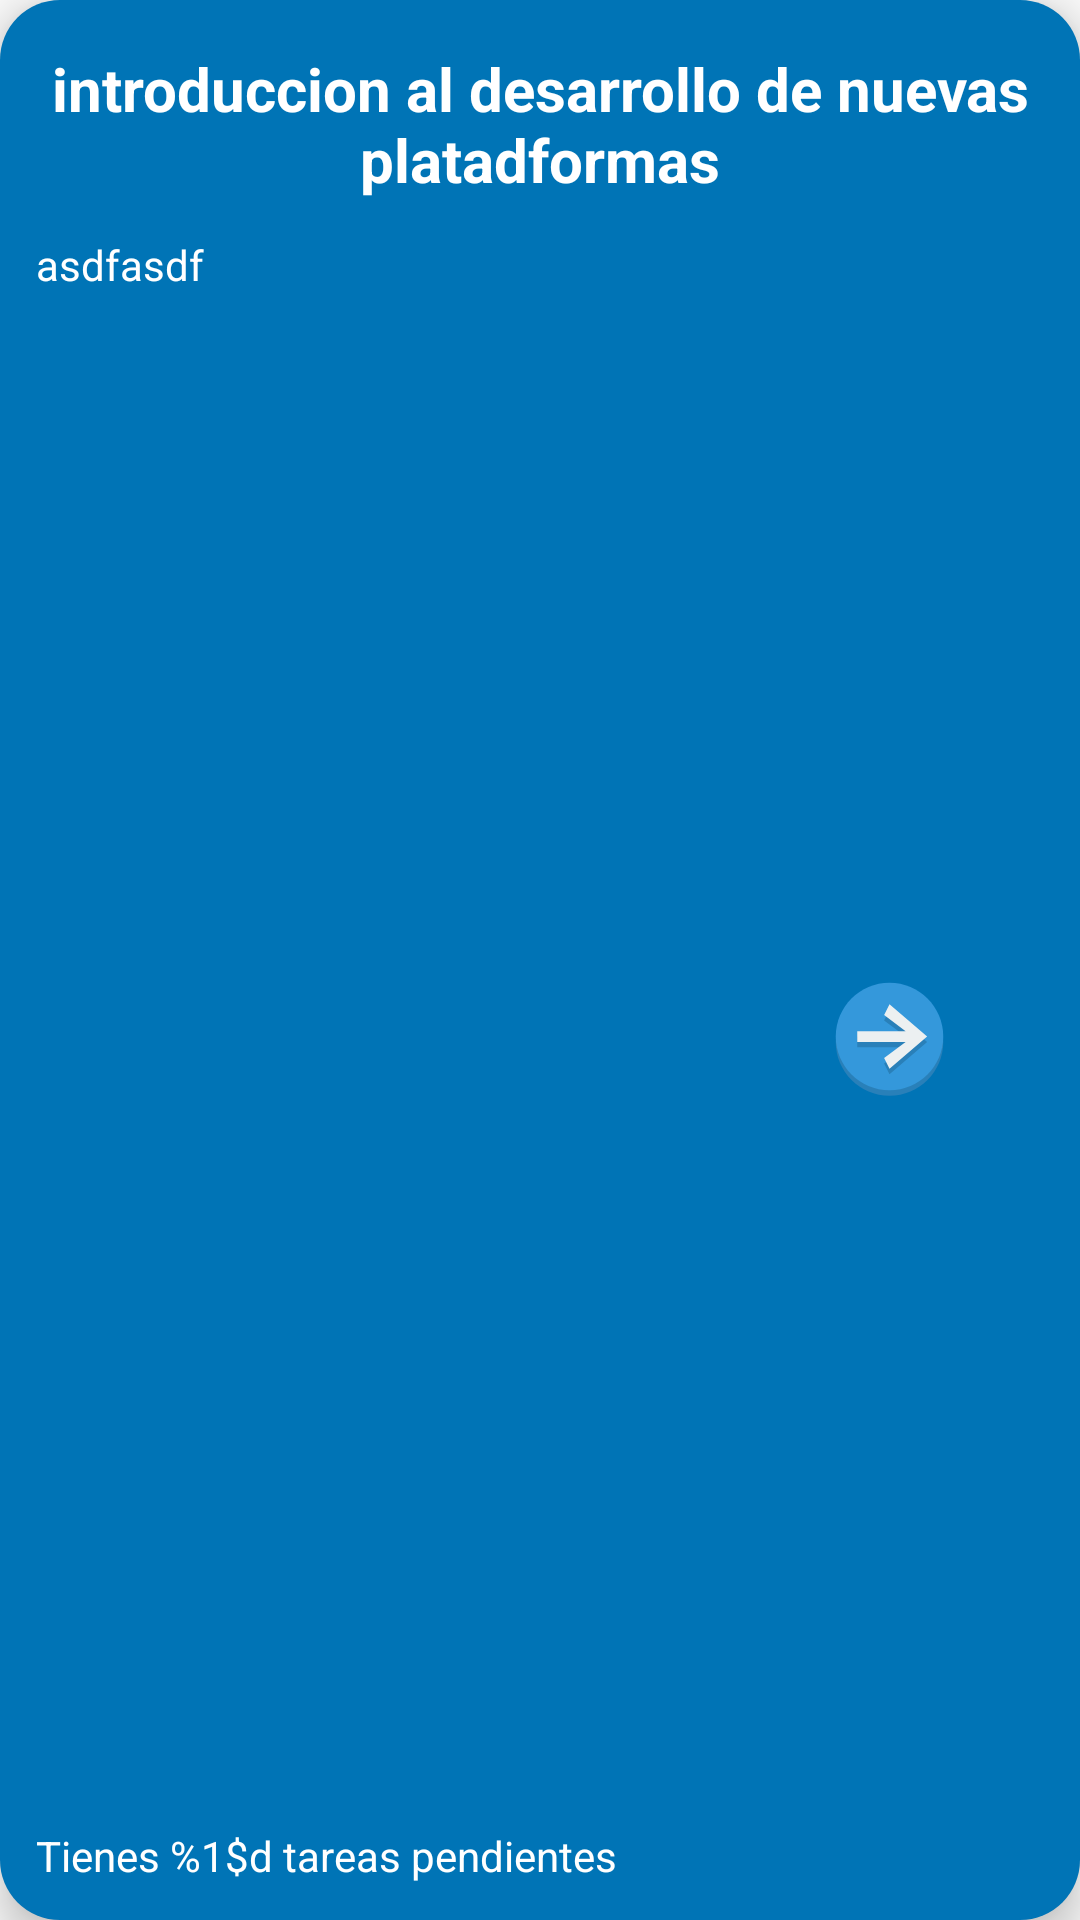

Icon click points for this 1080px×1920px phone screenshot, format [x,y]:
right arrow: [889,1039]
